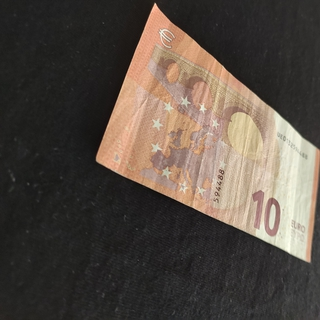10EUROBack: (95, 2, 320, 264)
